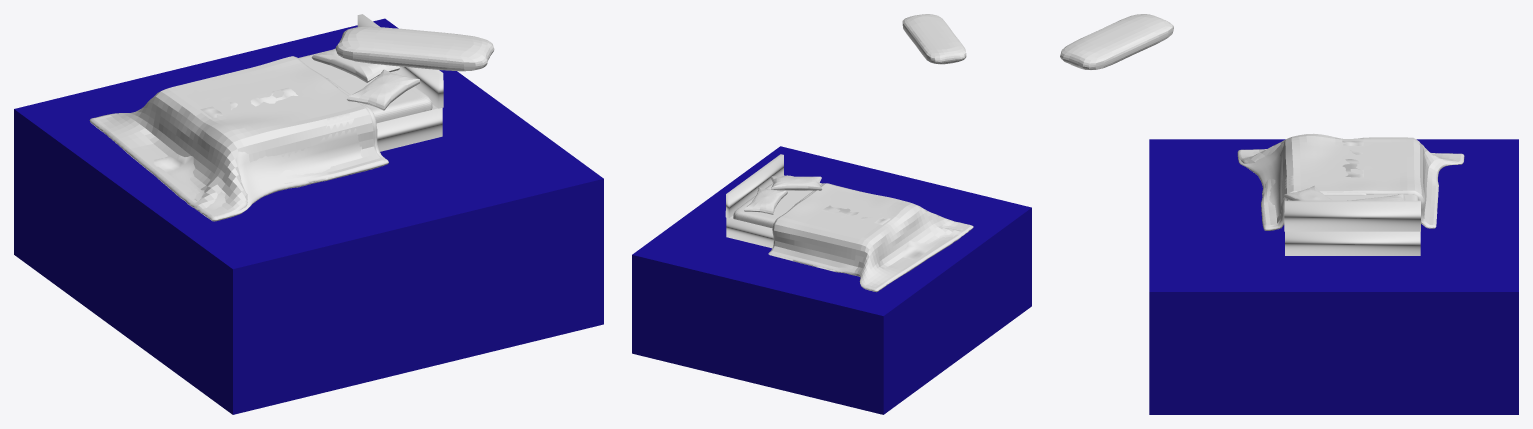
Rendered from bed sheet test 1.fbx.
The picture shows the model from 3 angles, left to right: view 1: azimuth 30°, elevation 25°; view 2: azimuth 150°, elevation 25°; view 3: azimuth 270°, elevation 25°; orthographic projection. The views are drawn at different scales.
Parts seen in each view (by area): view 1: floor temp, blanket big, blanket big 2, body pillow, bed frame.001, matress, pillow 1, pillow 2; view 2: floor temp, blanket big, bed frame.001, body pillow, matress, blanket big 2, pillow 1, pillow 2; view 3: floor temp, blanket big, bed frame.001, body pillow, blanket big 2, pillow 1.
Boxes of the visible parts, x1=… form: floor temp: x1=14, y1=18, x2=603, y2=414; blanket big: x1=89, y1=56, x2=385, y2=221; blanket big 2: x1=153, y1=78, x2=388, y2=220; body pillow: x1=335, y1=26, x2=494, y2=71; bed frame.001: x1=357, y1=14, x2=443, y2=151; matress: x1=298, y1=50, x2=432, y2=123; pillow 1: x1=347, y1=69, x2=420, y2=110; pillow 2: x1=311, y1=48, x2=399, y2=82; floor temp: x1=632, y1=146, x2=1031, y2=414; blanket big: x1=768, y1=183, x2=973, y2=292; bed frame.001: x1=725, y1=154, x2=784, y2=248; body pillow: x1=902, y1=14, x2=966, y2=64; matress: x1=733, y1=175, x2=822, y2=228; blanket big 2: x1=794, y1=183, x2=970, y2=259; pillow 1: x1=771, y1=176, x2=822, y2=190; pillow 2: x1=744, y1=187, x2=787, y2=214; floor temp: x1=1149, y1=139, x2=1518, y2=414; blanket big: x1=1237, y1=133, x2=1464, y2=228; bed frame.001: x1=1284, y1=200, x2=1420, y2=255; body pillow: x1=1060, y1=14, x2=1173, y2=69; blanket big 2: x1=1237, y1=140, x2=1366, y2=230; pillow 1: x1=1283, y1=185, x2=1332, y2=200.
Size of the model in its own units: 533 by 480 by 676.
